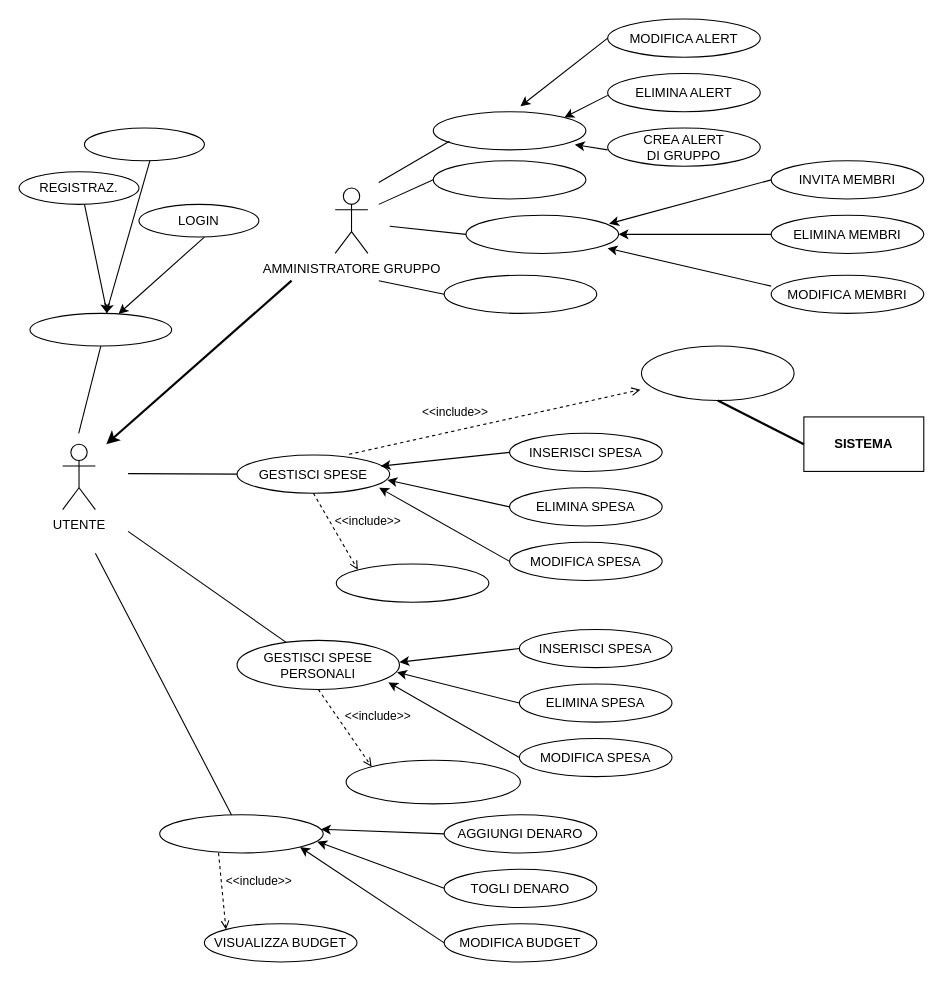
This 943x981 diagram has some shape labels left out. Each missing label, with the centre of its shape:
"AUTENTICAZIONE" belongs at (100,329).
"CREA GRUPPO" belongs at (509,179).
"ELIMINA GRUPPO" belongs at (520,293).
"GESTIONE ALERT" belongs at (509,130).
"GESTISCI BUDGET" belongs at (241,833).
"GESTISCI GRUPPO" belongs at (542,233).
"LOGOUT" belongs at (143,144).
"RICALCOLO DEBITI" belongs at (717,373).
"VISUALIZZA SPESE" belongs at (412,582).
"VISUALIZZA SPESE PERSONALI" belongs at (432,781).
